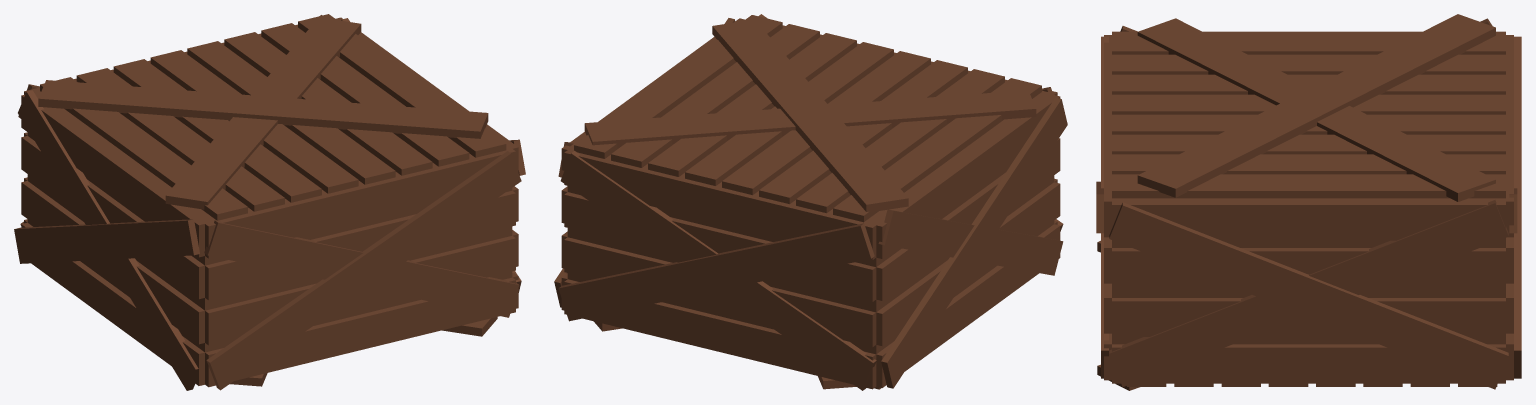
File: FallingBlock.fbx
3 renders of one model, left to right at view 1: azimuth 30°, elevation 25°; view 2: azimuth 150°, elevation 25°; view 3: azimuth 270°, elevation 25°, orthographic. The views are drawn at different scales.
Parts seen in each view (by area): view 1: FallingBlock; view 2: FallingBlock; view 3: FallingBlock.
Boxes of the visible parts, left/top/right/bottom form: FallingBlock: left=14, top=14, right=525, bottom=390; FallingBlock: left=554, top=14, right=1067, bottom=390; FallingBlock: left=1096, top=14, right=1521, bottom=390.
Bounding box in the file's own units: 5.4 × 2.92 × 5.4.
